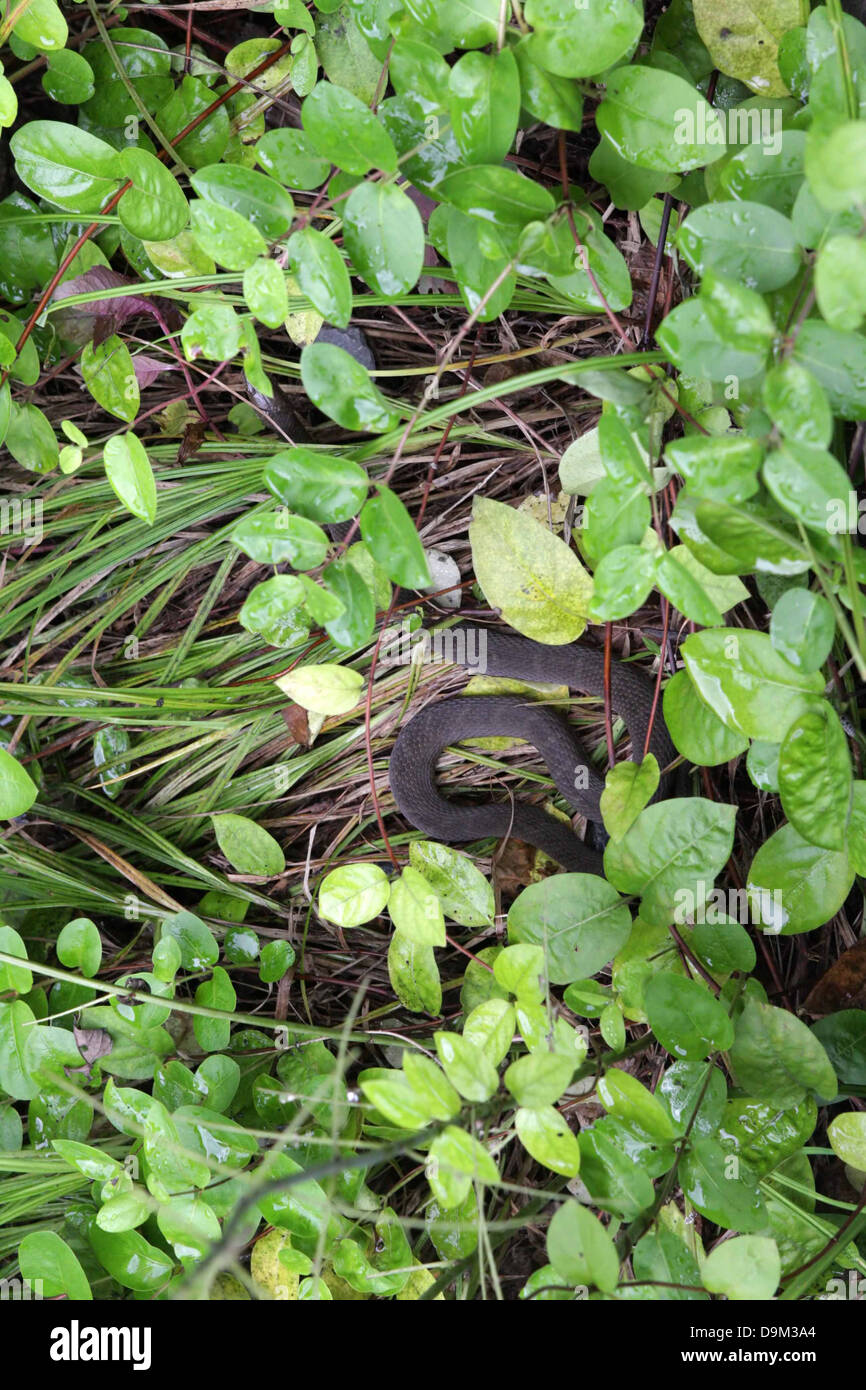snakeweed: (115, 150, 772, 590)
